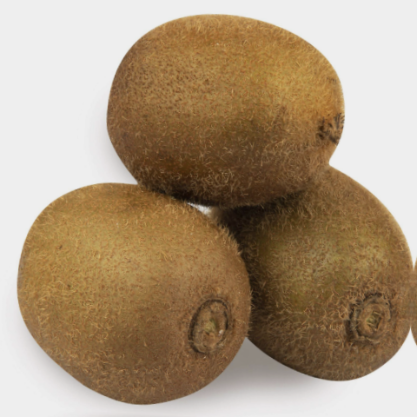kiwi: (0, 161, 282, 417), (79, 0, 354, 219), (189, 160, 413, 409)
